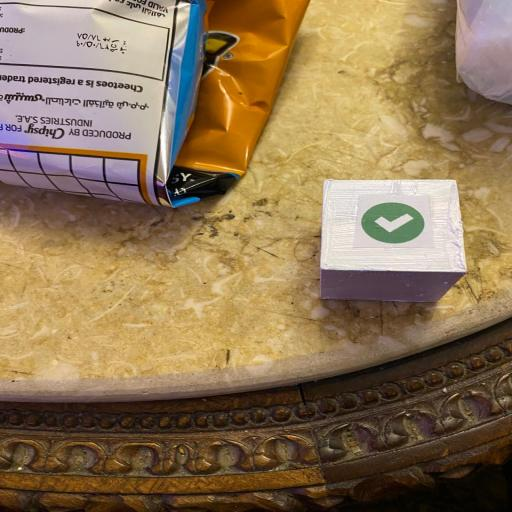Confirm: (319, 179, 468, 301)
